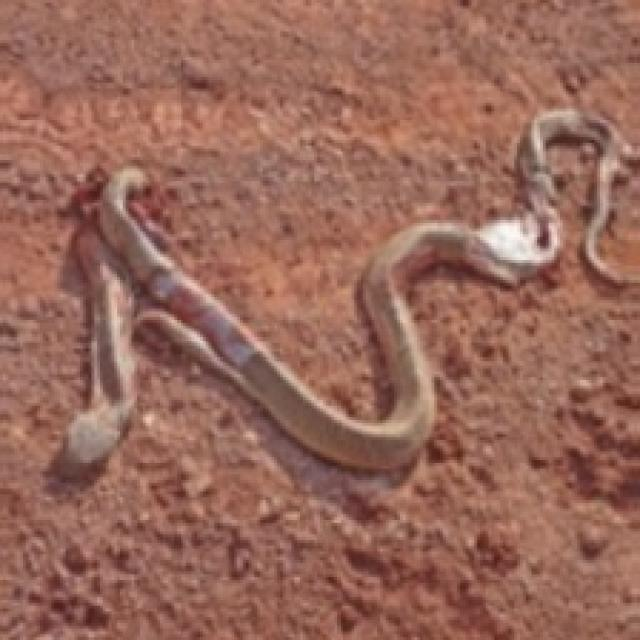king cobra: (49, 109, 637, 497)
